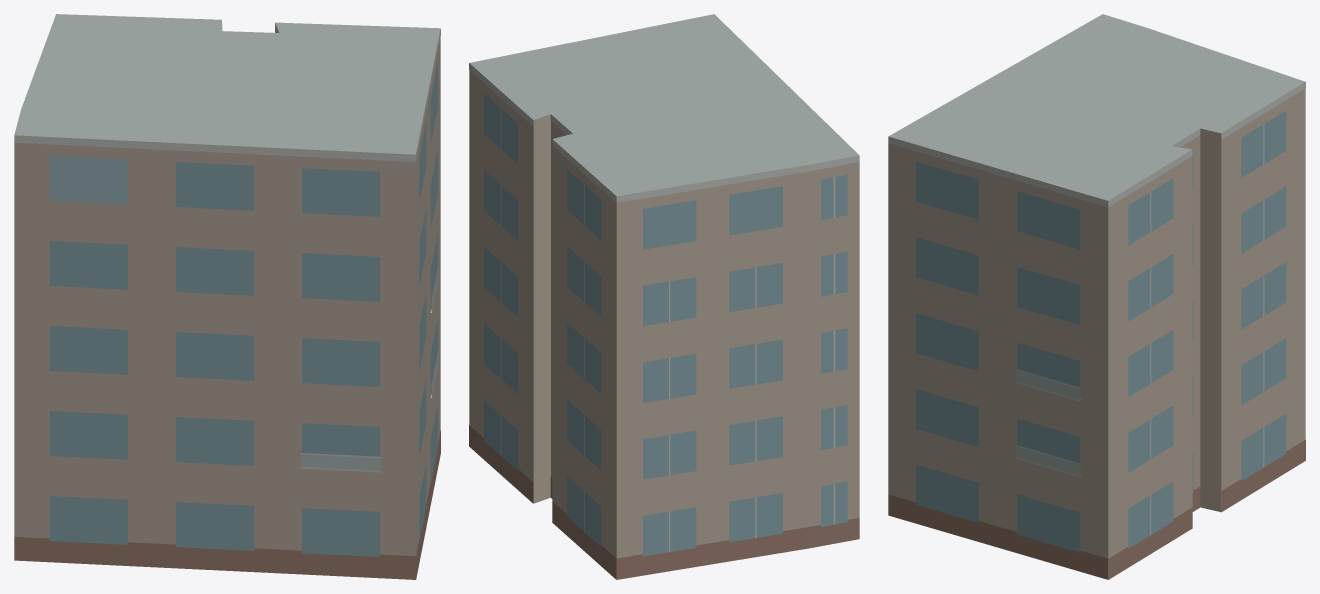
The model's file is survey-upis-32865656.glb.
3 views of the same model, side by side, from view 1: azimuth 30°, elevation 25°; view 2: azimuth 150°, elevation 25°; view 3: azimuth 270°, elevation 25° (orthographic). The views are drawn at different scales.
Visible parts, largest first — view 1: survey-upis-32865656.tmp; view 2: survey-upis-32865656.tmp; view 3: survey-upis-32865656.tmp.
Boxes of the visible parts, left/top/right/bottom form: survey-upis-32865656.tmp: left=14, top=14, right=440, bottom=579; survey-upis-32865656.tmp: left=469, top=14, right=859, bottom=579; survey-upis-32865656.tmp: left=888, top=14, right=1305, bottom=579.
Size of the model in its own units: 14.93 by 14.11 by 14.09.
